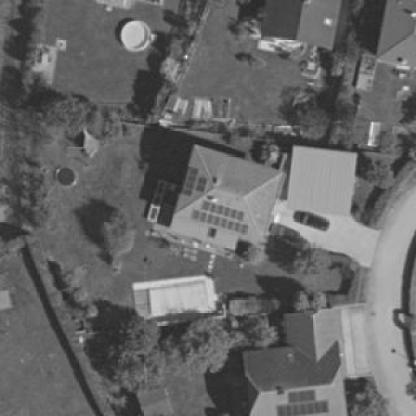solar-pv-panel: (277, 391, 327, 416)
